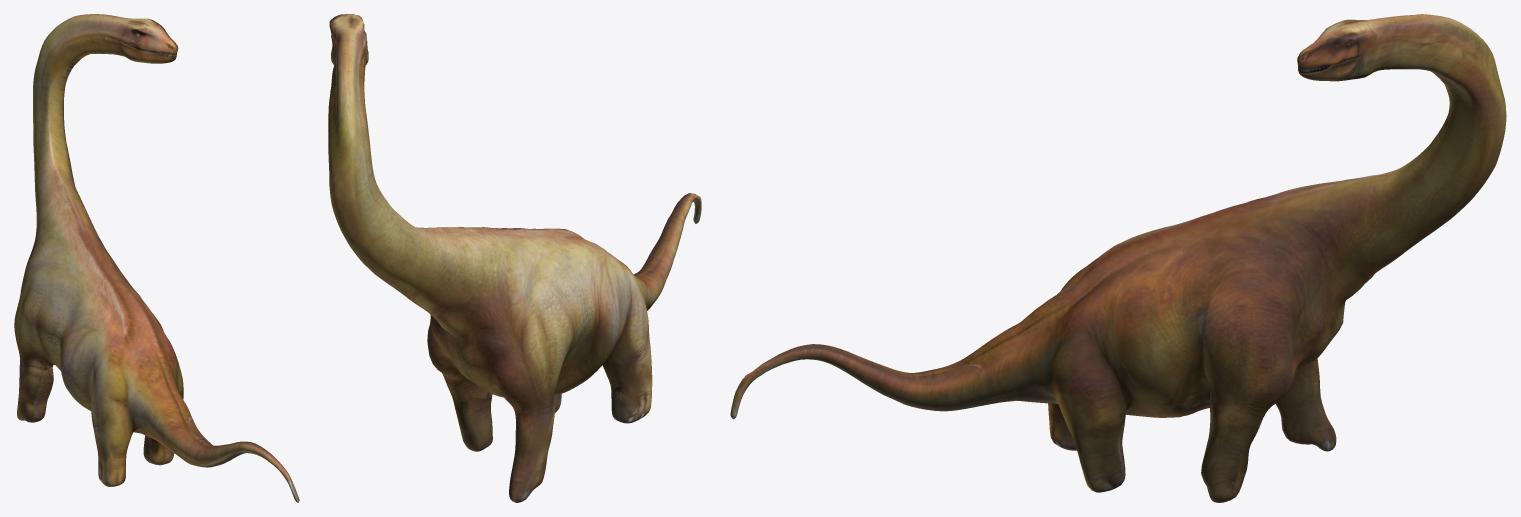
Rendered from 09 Patagosaurus 3D.glb.
3 views of the same model, side by side, from view 1: azimuth 30°, elevation 25°; view 2: azimuth 150°, elevation 25°; view 3: azimuth 270°, elevation 25° (orthographic). The views are drawn at different scales.
Visible parts, largest first — view 1: Mesh0; view 2: Mesh0; view 3: Mesh0.
Part boxes in pixels (box(x1,y1,x2,y2)): Mesh0: box(14, 14, 299, 502); Mesh0: box(328, 14, 701, 502); Mesh0: box(730, 14, 1506, 502).
Bounding box in the file's own units: 5.45 × 11.41 × 15.56.
1 material, 1 textured.
